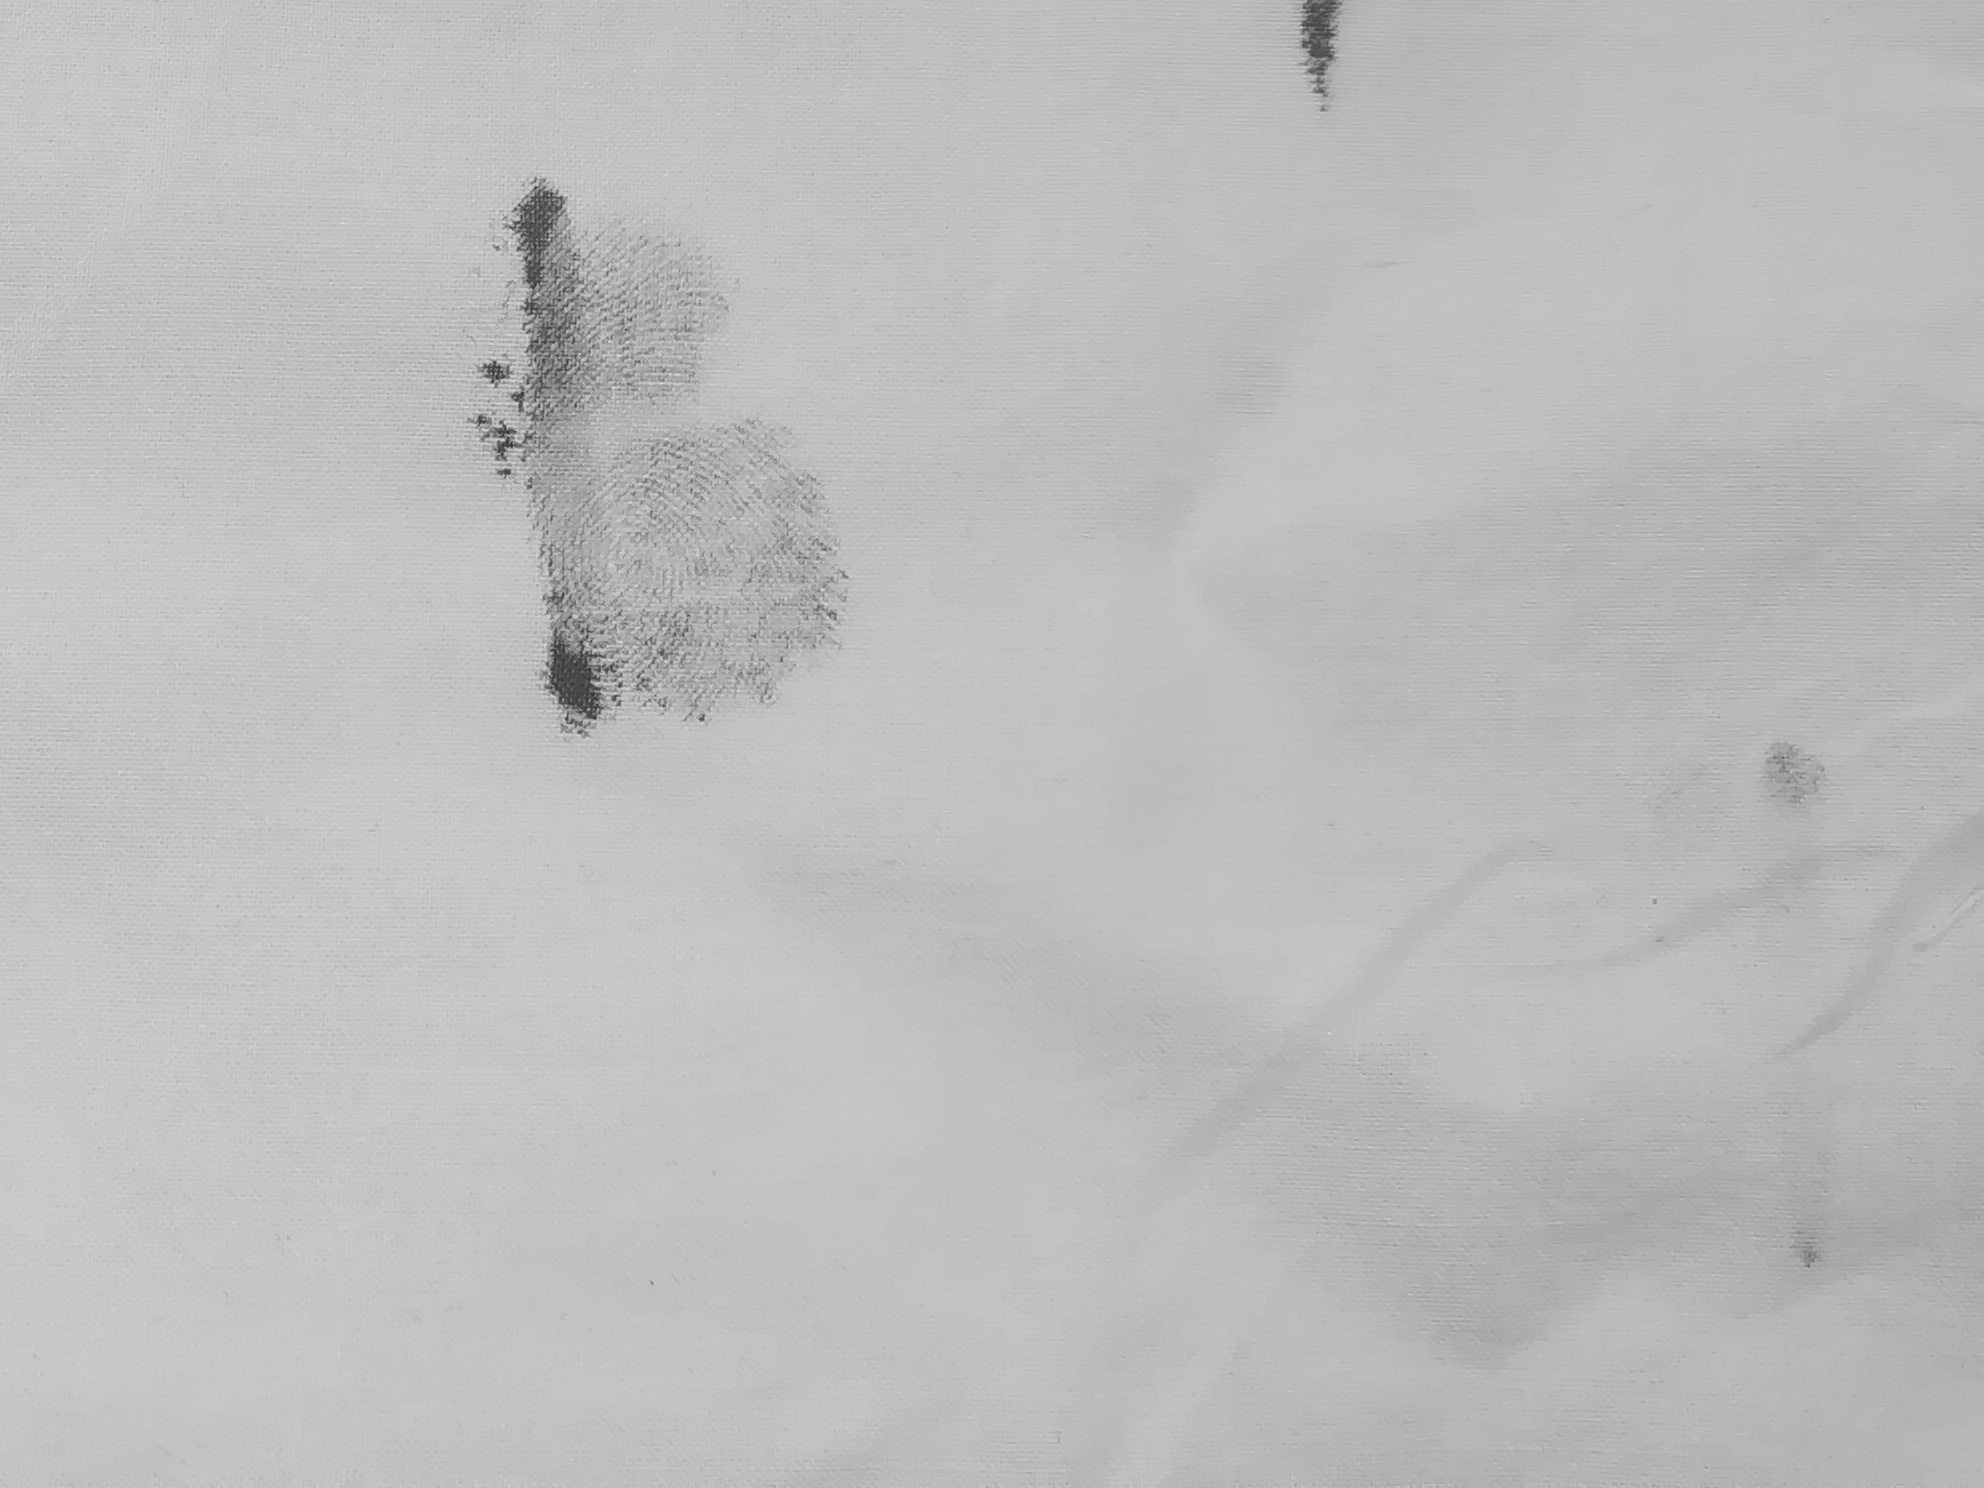Stain: (367, 81, 925, 824), (1211, 2, 1472, 202), (1700, 675, 1878, 883)
